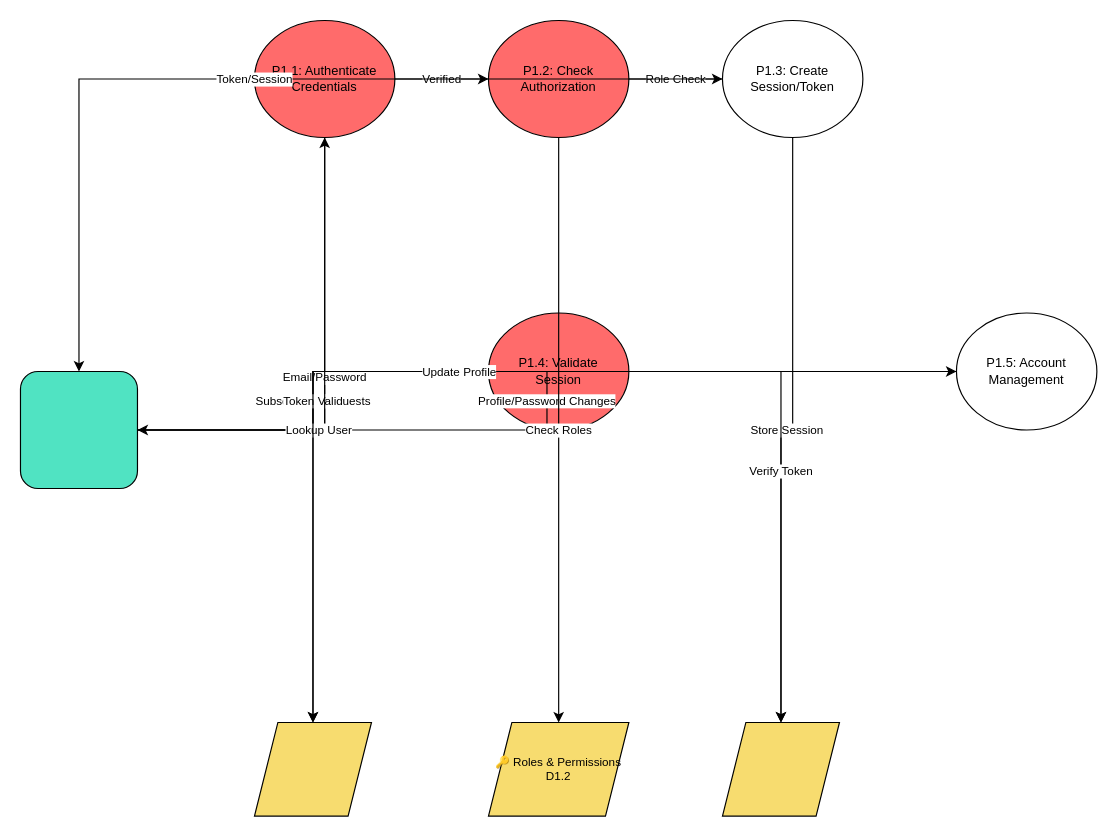
This 1117x837 diagram has some shape labels left out. The shapes that lost their labels are listed below. From the top down, each one's centre as x and y in pixels, then its label:
At (x=78, y=429): "👤 User".
At (x=312, y=768): "👥 Users D1.1".
At (x=780, y=768): "💾 Sessions D1.3".
